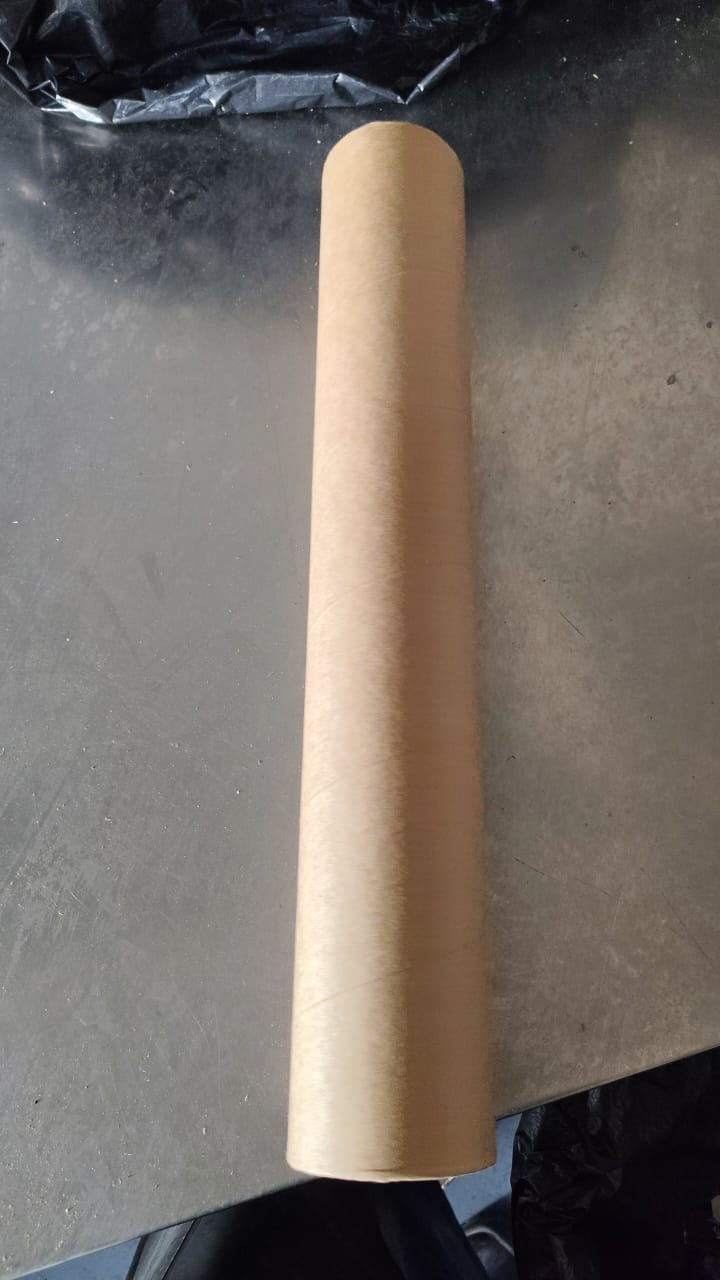Carton: (287, 123, 498, 1182)
